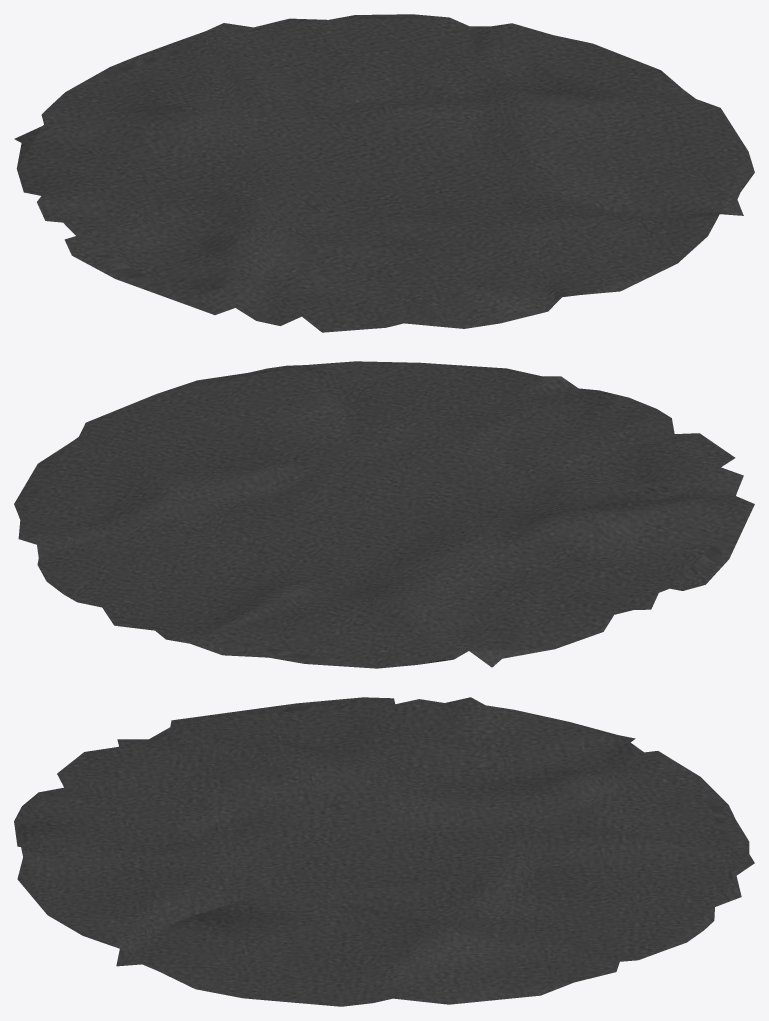
File: Carpet0031.obj
3 views of the same model, one above another, from view 1: azimuth 30°, elevation 25°; view 2: azimuth 150°, elevation 25°; view 3: azimuth 270°, elevation 25° (orthographic).
Bounding box in the file's own units: 3.21 × 0.102 × 3.25.
1 material, 1 textured.
